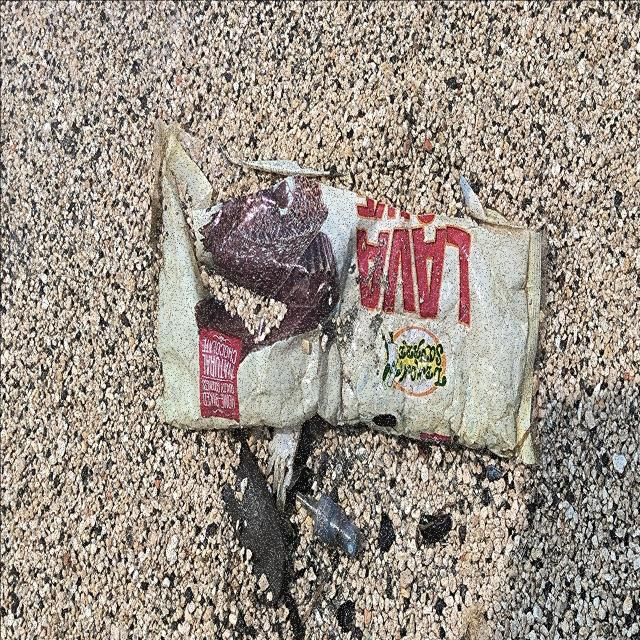plastic_waste: (155, 119, 544, 469)
